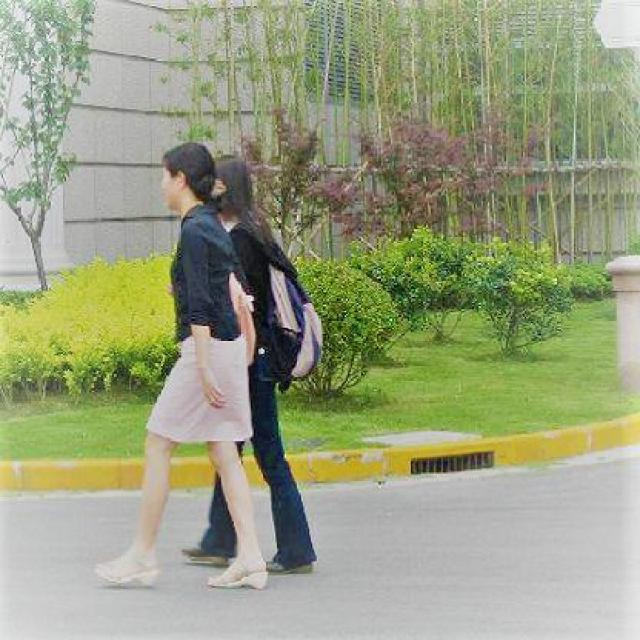Person: (99, 143, 268, 588), (214, 153, 326, 576)
